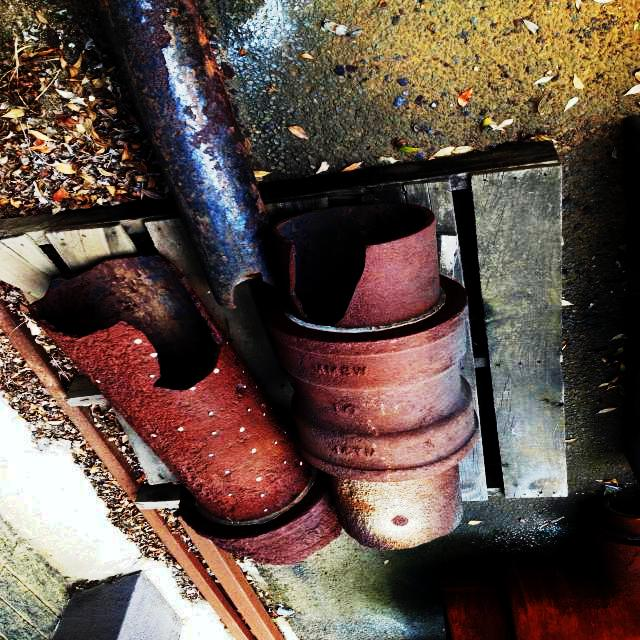Corrosion: (26, 0, 482, 640), (435, 491, 640, 640)
